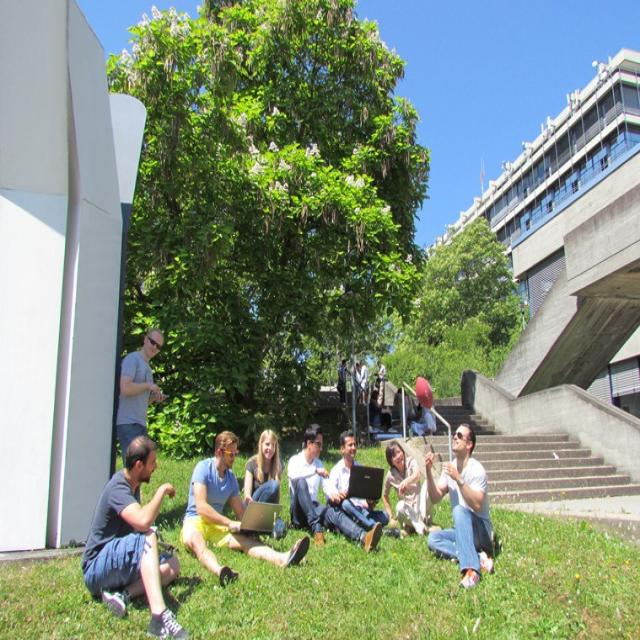body: (76, 431, 194, 639), (177, 427, 311, 593), (422, 420, 504, 592), (284, 420, 384, 554), (112, 324, 169, 471), (328, 428, 402, 538), (379, 439, 448, 542), (240, 426, 288, 542), (391, 381, 441, 439), (368, 389, 393, 432), (372, 359, 387, 406), (336, 359, 350, 407), (358, 358, 368, 406), (352, 361, 361, 395)
